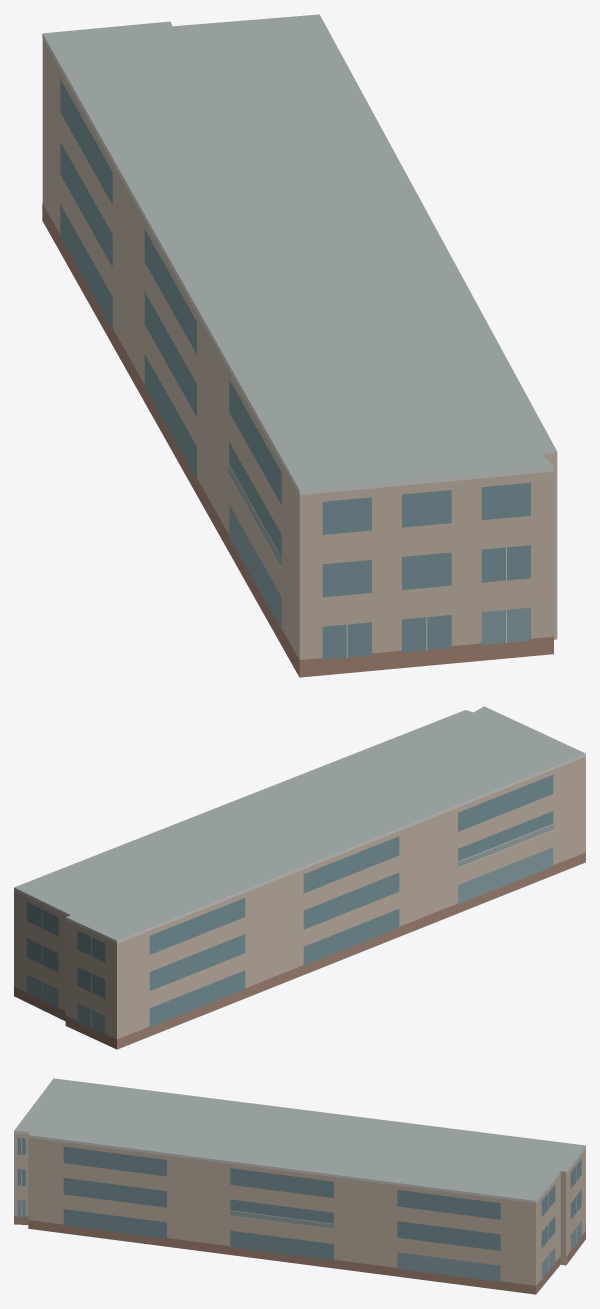
File: survey-upis-32592415.glb
3 renders of one model, top to bottom at view 1: azimuth 30°, elevation 25°; view 2: azimuth 150°, elevation 25°; view 3: azimuth 270°, elevation 25°, orthographic. The views are drawn at different scales.
Visible parts, largest first — view 1: survey-upis-32592415.tmp; view 2: survey-upis-32592415.tmp; view 3: survey-upis-32592415.tmp.
Part boxes in pixels (<box>): survey-upis-32592415.tmp: <box>42,14,557,677</box>; survey-upis-32592415.tmp: <box>14,706,585,1049</box>; survey-upis-32592415.tmp: <box>14,1078,585,1294</box>.
Size of the model in its own units: 25.69 by 9.15 by 50.63.
